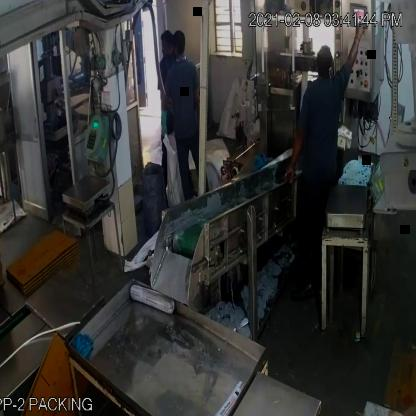no_glove: (345, 16, 371, 83), (282, 122, 306, 184)
